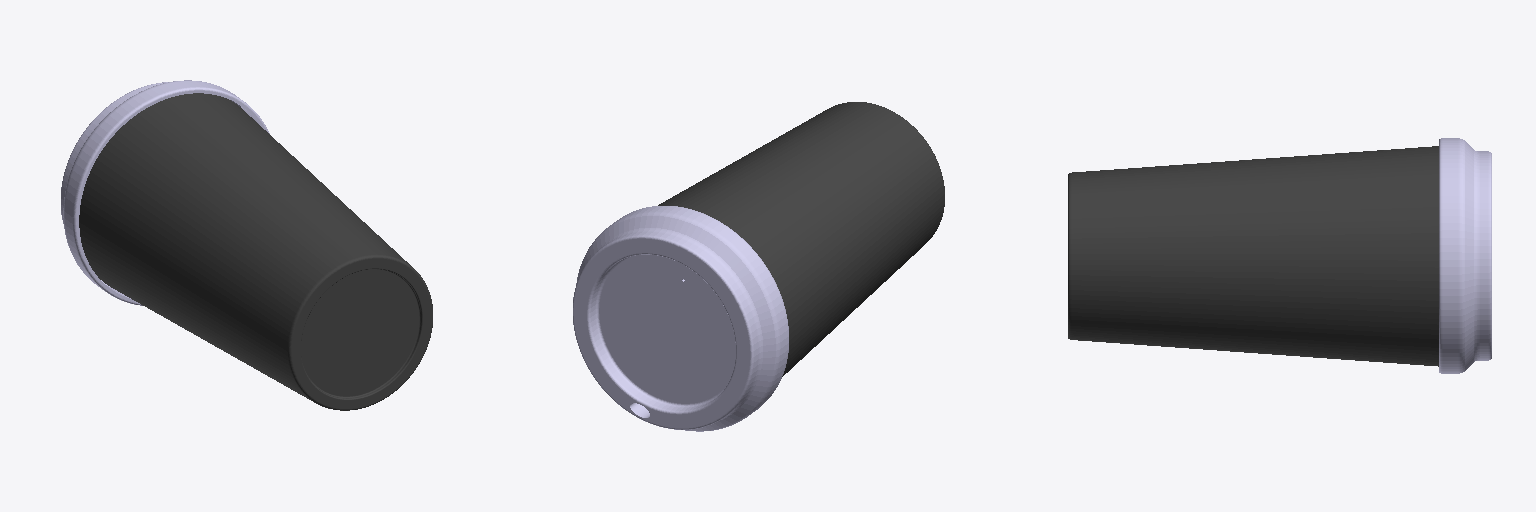
File: glass.obj
The picture shows the model from 3 angles: view 1: azimuth 30°, elevation 25°; view 2: azimuth 150°, elevation 25°; view 3: azimuth 270°, elevation 25°; orthographic projection.
Visible parts, largest first — view 1: Cone001, Cylinder00; view 2: Cylinder00, Cone001; view 3: Cone001, Cylinder00.
Part boxes in pixels (left/top/right/bottom): Cone001: left=79, top=93, right=432, bottom=410; Cylinder00: left=61, top=80, right=269, bottom=305; Cylinder00: left=573, top=206, right=788, bottom=431; Cone001: left=658, top=102, right=944, bottom=376; Cone001: left=1068, top=146, right=1438, bottom=366; Cylinder00: left=1439, top=138, right=1491, bottom=373.
Bounding box in the file's own units: 169 × 169 × 305.